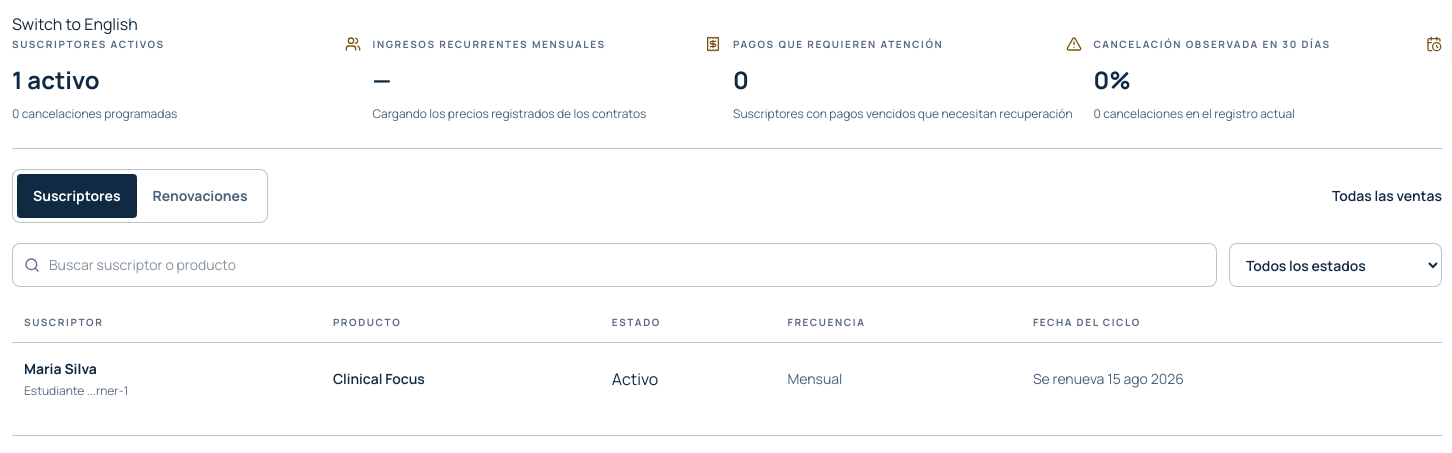
Test: jornada de assinaturas no idioma da pessoa › traduz o estado financeiro loading
This screenshot has width=1452, height=453.
Check: the text "Cargando los precios registrados de los contratos" is shown, box [372,105,646,122]
Click the tab "Renovaciones": {"x": 200, "y": 196} [136,174,263,218]
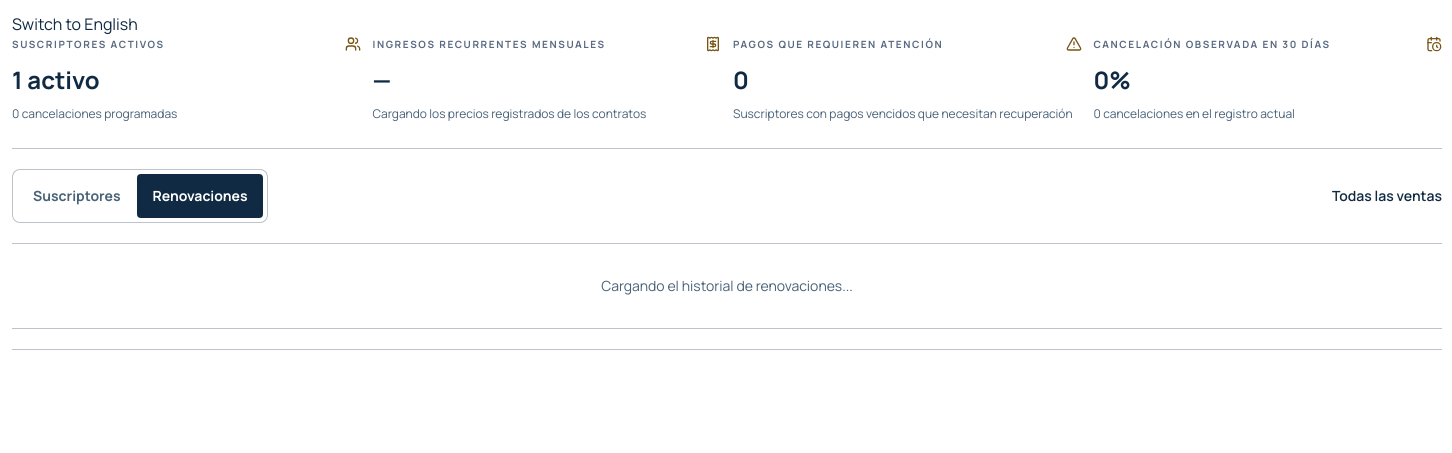
Check: the text "Cargando el historial de renovaciones..." is shown, box [12,243,1442,329]
